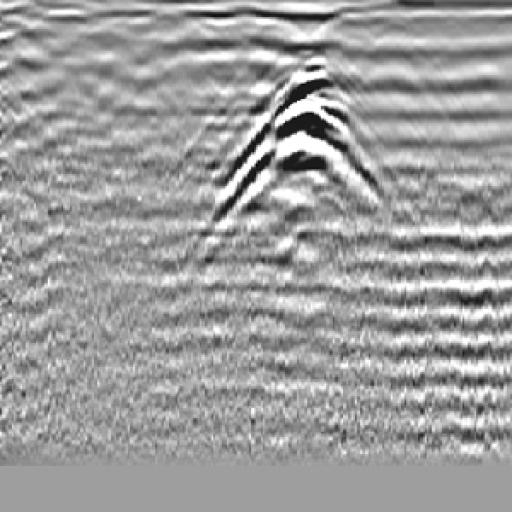metalic: (221, 57, 392, 222)
